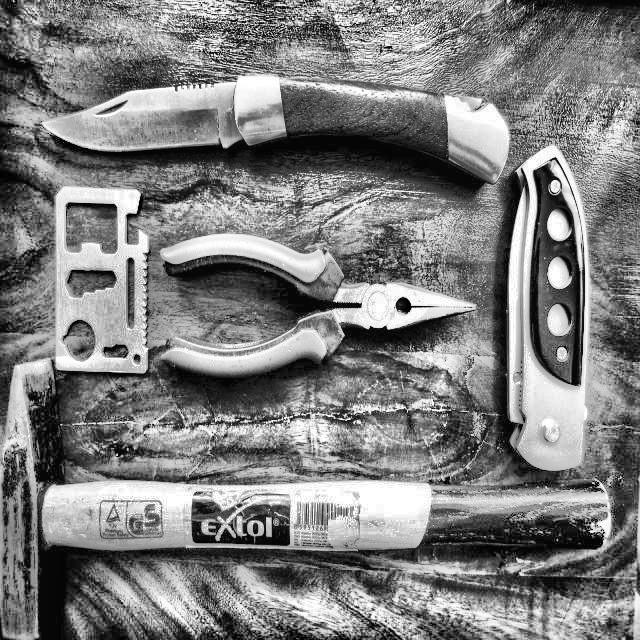knife: (38, 74, 515, 190)
